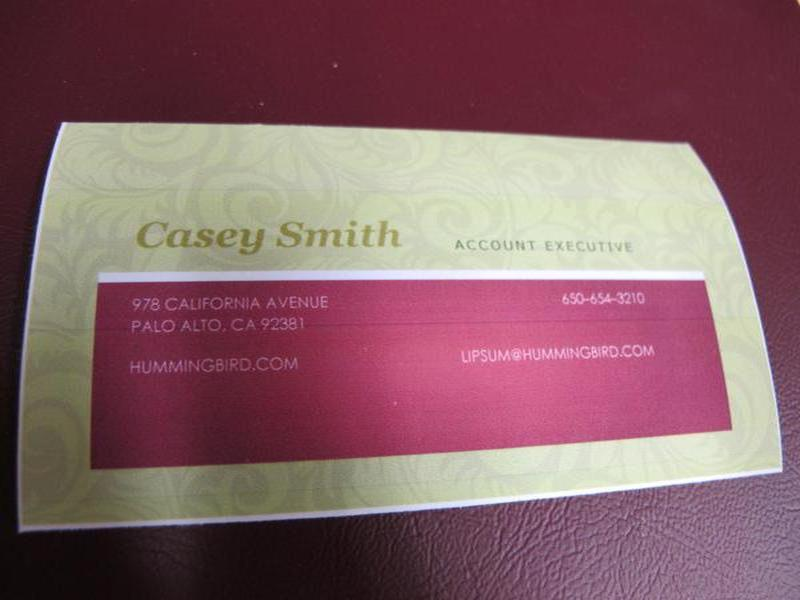card: (19, 114, 788, 525)
